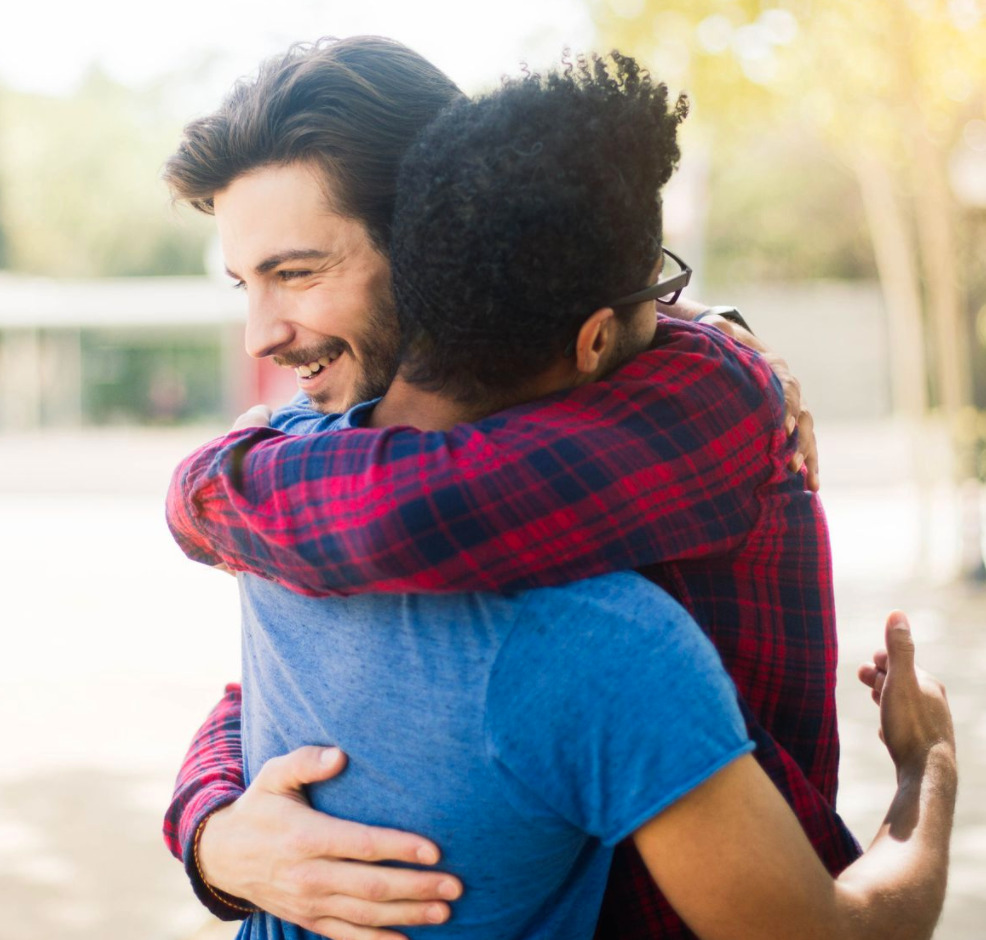Bad: (164, 38, 960, 940)
